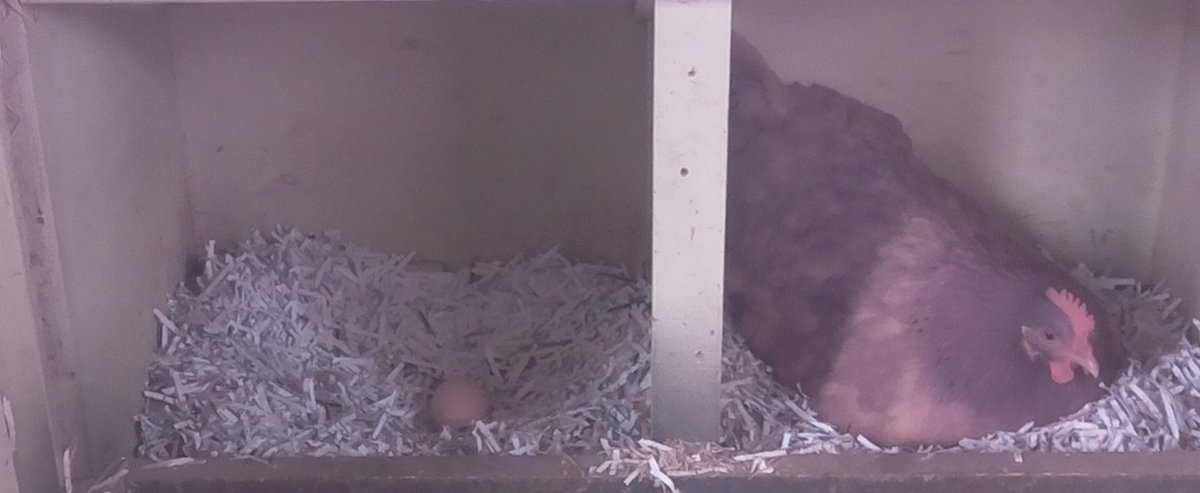egg: (424, 372, 495, 437)
hen: (732, 67, 1133, 450)
